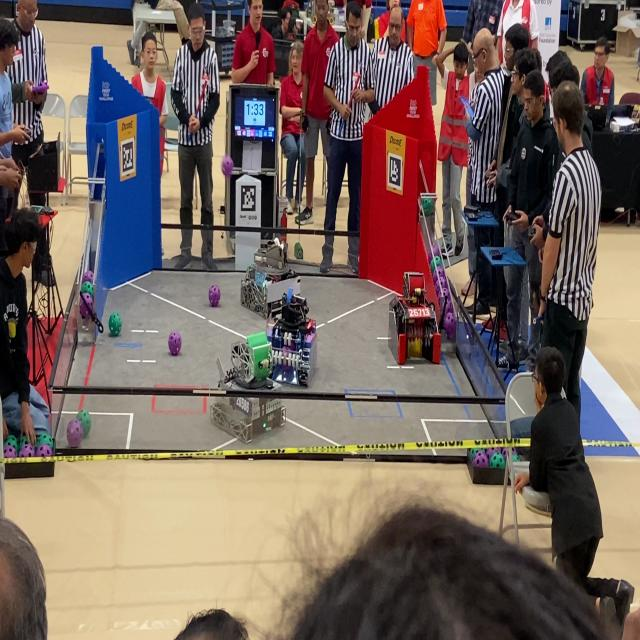artifact_green: (77, 410, 91, 437), (443, 312, 456, 339), (109, 312, 122, 336), (490, 452, 505, 469), (473, 450, 488, 467), (37, 434, 53, 449), (430, 255, 442, 273), (4, 435, 18, 450), (422, 198, 434, 215), (81, 282, 94, 297), (36, 445, 52, 457), (486, 447, 501, 459), (4, 445, 17, 458), (469, 448, 484, 459), (294, 243, 303, 259), (18, 436, 28, 450), (513, 454, 520, 461)
artifact_purple: (67, 419, 83, 447), (80, 293, 93, 318), (443, 313, 455, 339), (433, 267, 445, 291), (169, 332, 181, 355), (221, 155, 233, 177), (473, 451, 489, 467), (438, 287, 450, 308), (19, 443, 35, 458), (209, 286, 220, 307), (439, 289, 450, 308), (36, 444, 52, 457), (485, 447, 501, 459), (4, 445, 17, 458), (81, 270, 93, 284), (445, 299, 454, 315), (439, 276, 448, 292), (432, 270, 439, 286), (436, 266, 445, 277), (501, 448, 508, 460), (432, 245, 440, 255)
